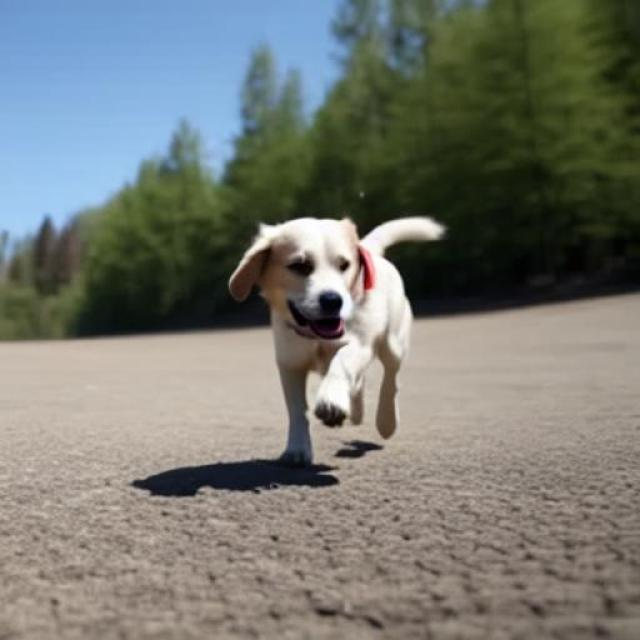Dog: (227, 214, 448, 467)
